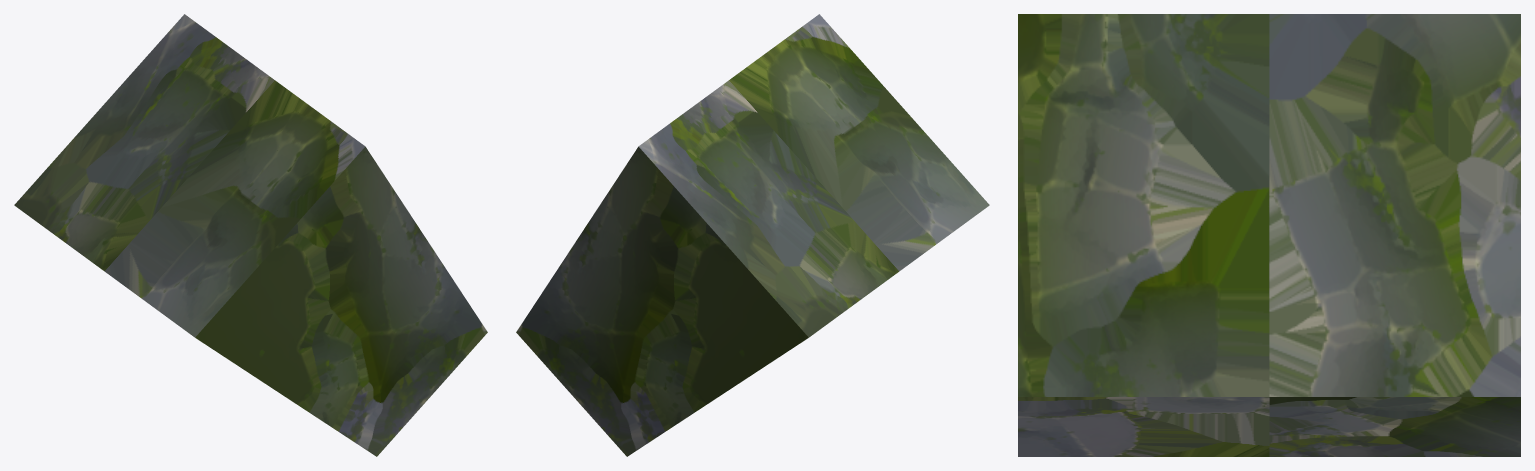
File: Arch_Voussoir_07.glb
3 renders of one model, left to right at view 1: azimuth 30°, elevation 25°; view 2: azimuth 150°, elevation 25°; view 3: azimuth 270°, elevation 25°, orthographic. The views are drawn at different scales.
Parts seen in each view (by area): view 1: Arch_Voussoir_07__Arch_Voussoir_07; view 2: Arch_Voussoir_07__Arch_Voussoir_07; view 3: Arch_Voussoir_07__Arch_Voussoir_07.
Part boxes in pixels (x1,y1,x2,y2): Arch_Voussoir_07__Arch_Voussoir_07: (14,14,487,456); Arch_Voussoir_07__Arch_Voussoir_07: (516,14,989,456); Arch_Voussoir_07__Arch_Voussoir_07: (1018,14,1520,456).
Bounding box in the file's own units: 0.9158 × 0.9362 × 0.98.
1 material, 1 textured.
